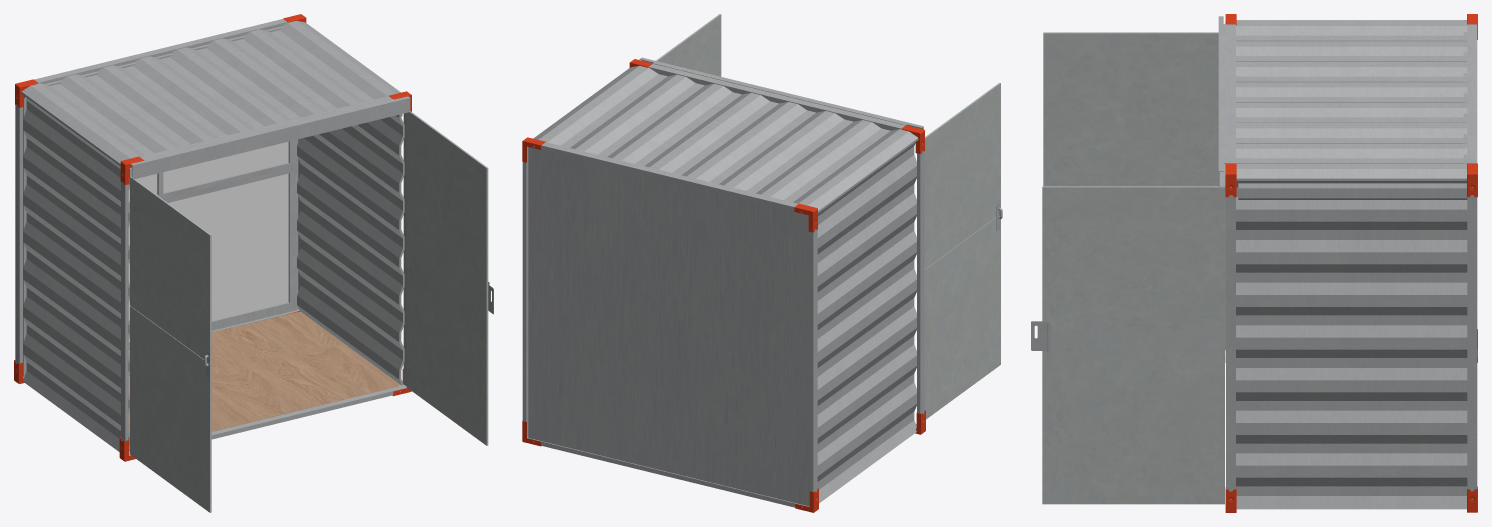
Rendered from 3M_opened.glb.
3 views of the same model, side by side, from view 1: azimuth 30°, elevation 25°; view 2: azimuth 150°, elevation 25°; view 3: azimuth 270°, elevation 25° (orthographic). The views are drawn at different scales.
Parts seen in each view (by area): view 1: leftWall, roof, rightWall, rightSideDoorWing, leftSideDoorWing, backInteriorWall, floor.001, frontRim, gutter, backRim; view 2: Cube.007, leftWall, roof, leftSideDoorWing, backRim, frontRim, rightSideDoorWing, gutter; view 3: rightWall, rightSideDoorWing, roof, leftSideDoorWing, backRim, frontRim, topRightMask, gutter, handle.
Part boxes in pixels (x1,y1,x2,y2): leftWall: [23, 98, 129, 451]; roof: [21, 20, 400, 165]; rightWall: [297, 114, 404, 385]; rightSideDoorWing: [406, 111, 488, 445]; leftSideDoorWing: [130, 178, 211, 512]; backInteriorWall: [23, 98, 298, 376]; floor.001: [128, 311, 400, 451]; frontRim: [121, 96, 406, 455]; gutter: [129, 96, 410, 179]; backRim: [15, 19, 300, 378]; Cube.007: [528, 147, 809, 506]; leftWall: [817, 142, 916, 503]; roof: [533, 65, 918, 212]; leftSideDoorWing: [924, 83, 1000, 419]; backRim: [522, 142, 817, 507]; frontRim: [648, 64, 924, 428]; rightSideDoorWing: [656, 14, 721, 76]; gutter: [639, 57, 923, 129]; rightWall: [1236, 181, 1467, 509]; rightSideDoorWing: [1042, 186, 1224, 504]; roof: [1236, 20, 1467, 180]; leftSideDoorWing: [1043, 32, 1225, 350]; backRim: [1467, 24, 1477, 499]; frontRim: [1226, 24, 1235, 499]; topRightMask: [1238, 183, 1467, 199]; gutter: [1218, 16, 1225, 187]; handle: [1031, 321, 1050, 352].
Bounding box in the file's own units: 23.17 × 22.88 × 27.26.
Materials: 6 (5 with a texture image).
